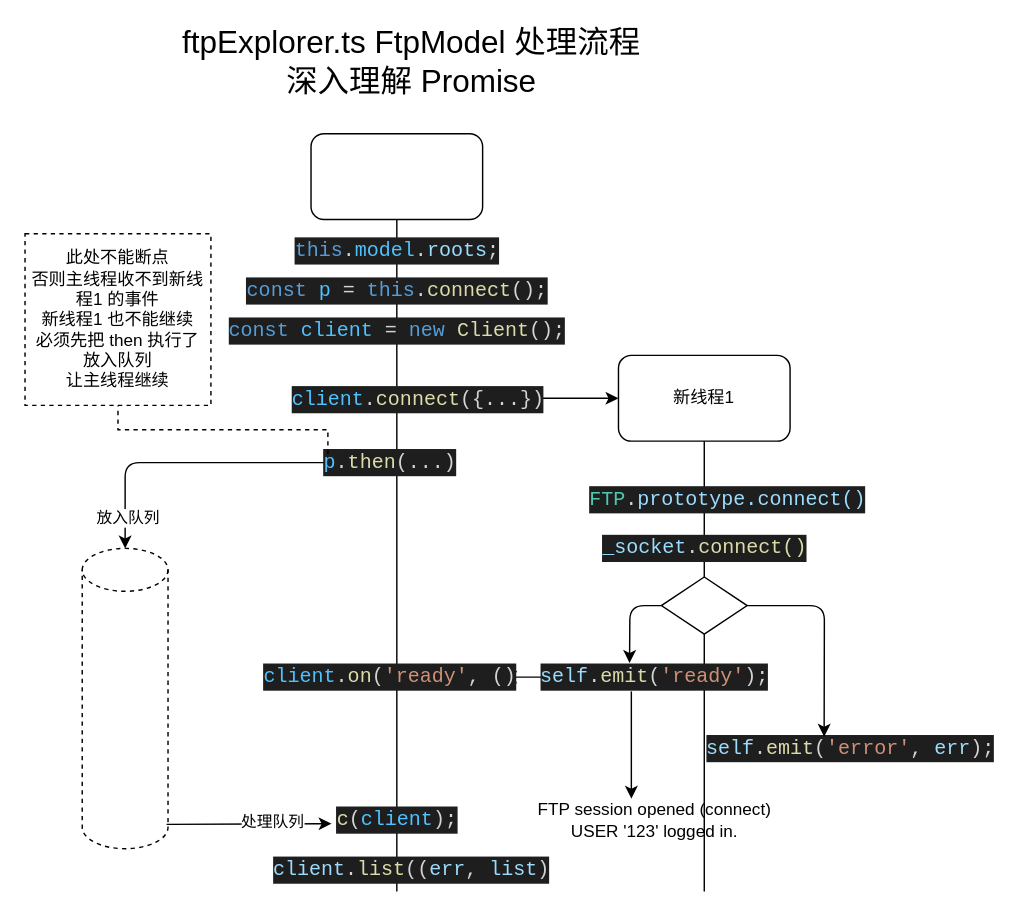
Some shapes in this 1020 by 918 pixel diagram are drawn without their labels. The centre of each missing label's shape, as x and y in pixels:
"js 主线程" goes at (x=396, y=176).
"事件队列" goes at (x=124, y=698).
